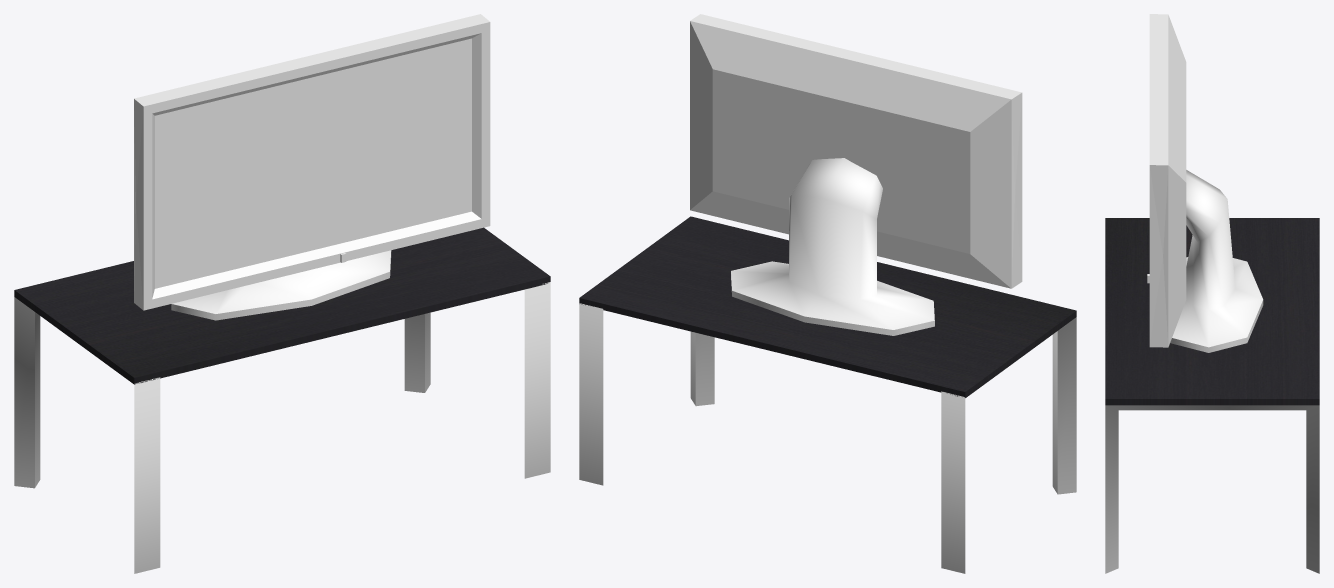
3 renders of one model, left to right at view 1: azimuth 30°, elevation 25°; view 2: azimuth 150°, elevation 25°; view 3: azimuth 270°, elevation 25°, orthographic. The views are drawn at different scales.
Visible parts, largest first — view 1: ecran16_9.obj_1, scrivania160W.obj_1; view 2: ecran16_9.obj_1, scrivania160W.obj_1; view 3: scrivania160W.obj_1, ecran16_9.obj_1.
Boxes of the visible parts, left/top/right/bottom form: ecran16_9.obj_1: left=134, top=14, right=490, bottom=320; scrivania160W.obj_1: left=14, top=227, right=550, bottom=573; ecran16_9.obj_1: left=690, top=14, right=1022, bottom=335; scrivania160W.obj_1: left=579, top=216, right=1076, bottom=573; scrivania160W.obj_1: left=1105, top=218, right=1319, bottom=573; ecran16_9.obj_1: left=1147, top=14, right=1263, bottom=352.
Size of the model in its own units: 0.96 by 0.972 by 0.48.
3 materials, 1 textured.
